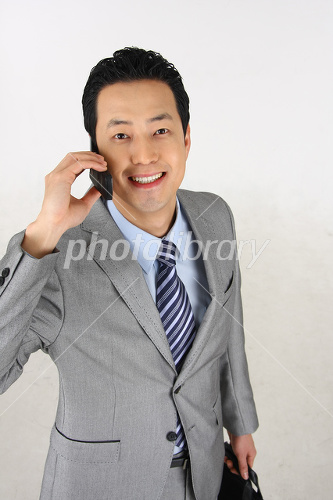phone: (70, 134, 113, 208)
talk: (45, 117, 188, 231)
